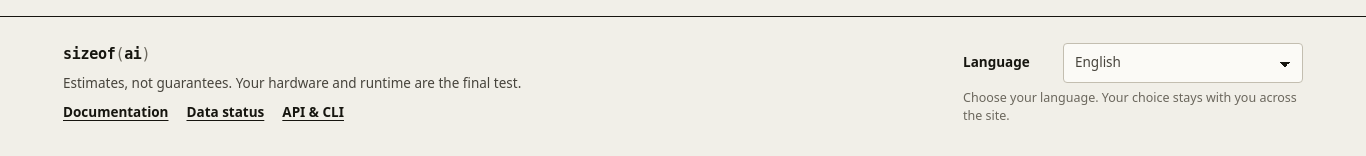
Test: site-wide persistent language routing › keeps the previous language and configuration if a language asset fails
Select "Français" in the dropdown at (1183, 62), box [1063,42,1303,82]
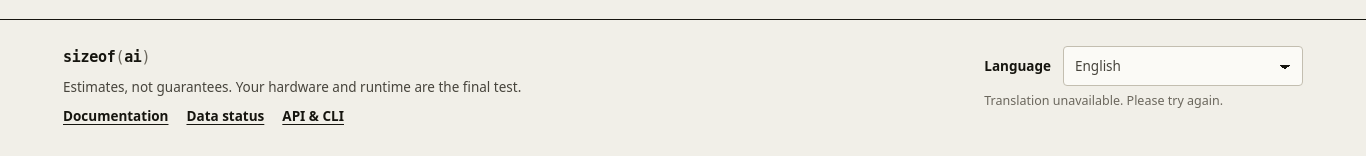
Expected: the message reads "Translation unavailable. Please try again.", [984,92,1223,109]
